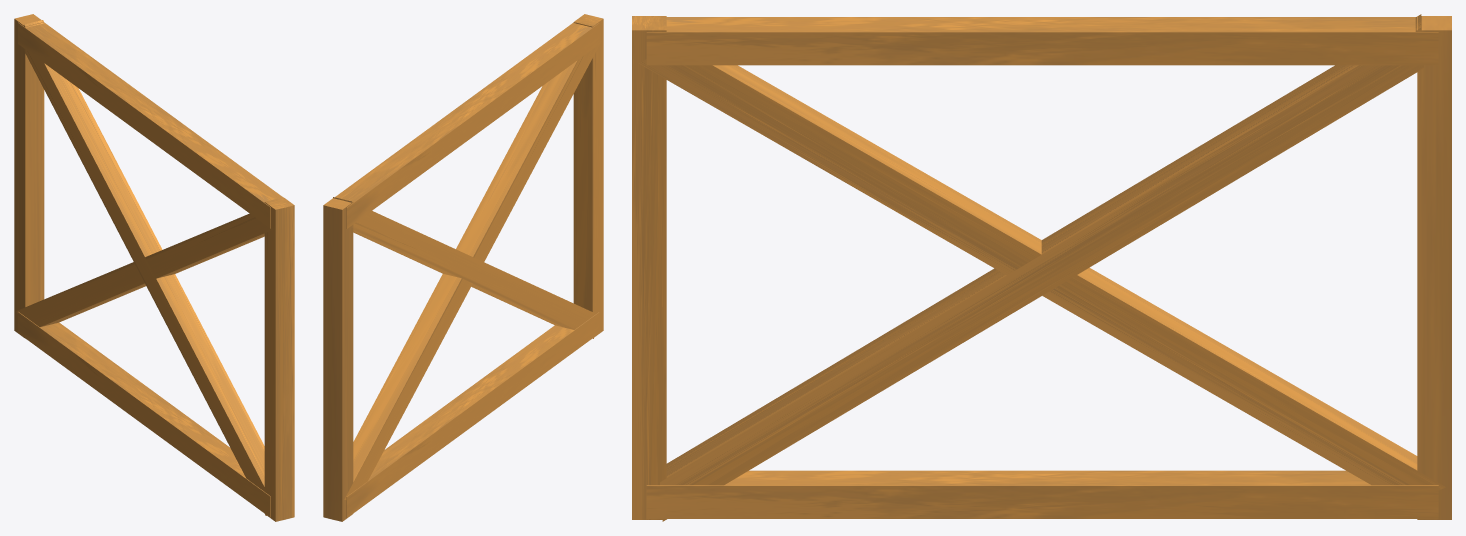
The model's file is Wall.fbx.
3 views of the same model, side by side, from view 1: azimuth 30°, elevation 25°; view 2: azimuth 150°, elevation 25°; view 3: azimuth 270°, elevation 25° (orthographic). The views are drawn at different scales.
Visible parts, largest first — view 1: 立方体; view 2: 立方体; view 3: 立方体.
Boxes of the visible parts, x1,y1,x2,y2 form: 立方体: (14,14,294,521); 立方体: (323,14,603,521); 立方体: (632,14,1451,521).
Size of the model in its own units: 46.36 by 693 by 1044.
